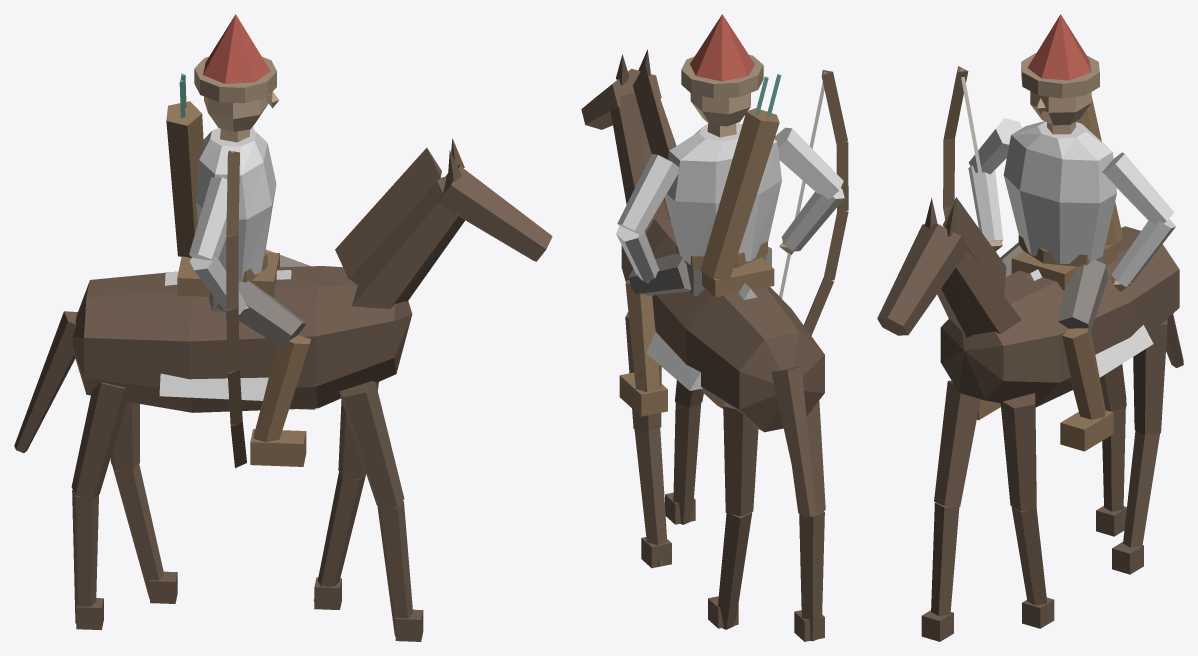
The model's file is keshik.glb.
3 renders of one model, left to right at view 1: azimuth 30°, elevation 25°; view 2: azimuth 150°, elevation 25°; view 3: azimuth 270°, elevation 25°, orthographic. The views are drawn at different scales.
Parts seen in each view (by area): view 1: LOD0; view 2: LOD0; view 3: LOD0.
Boxes of the visible parts, x1,y1,x2,y2 form: LOD0: (14, 14, 552, 641); LOD0: (581, 14, 848, 641); LOD0: (877, 14, 1183, 641).
Size of what is drawn, in the model's own units: 0.9264 by 1.37 by 0.6659.
